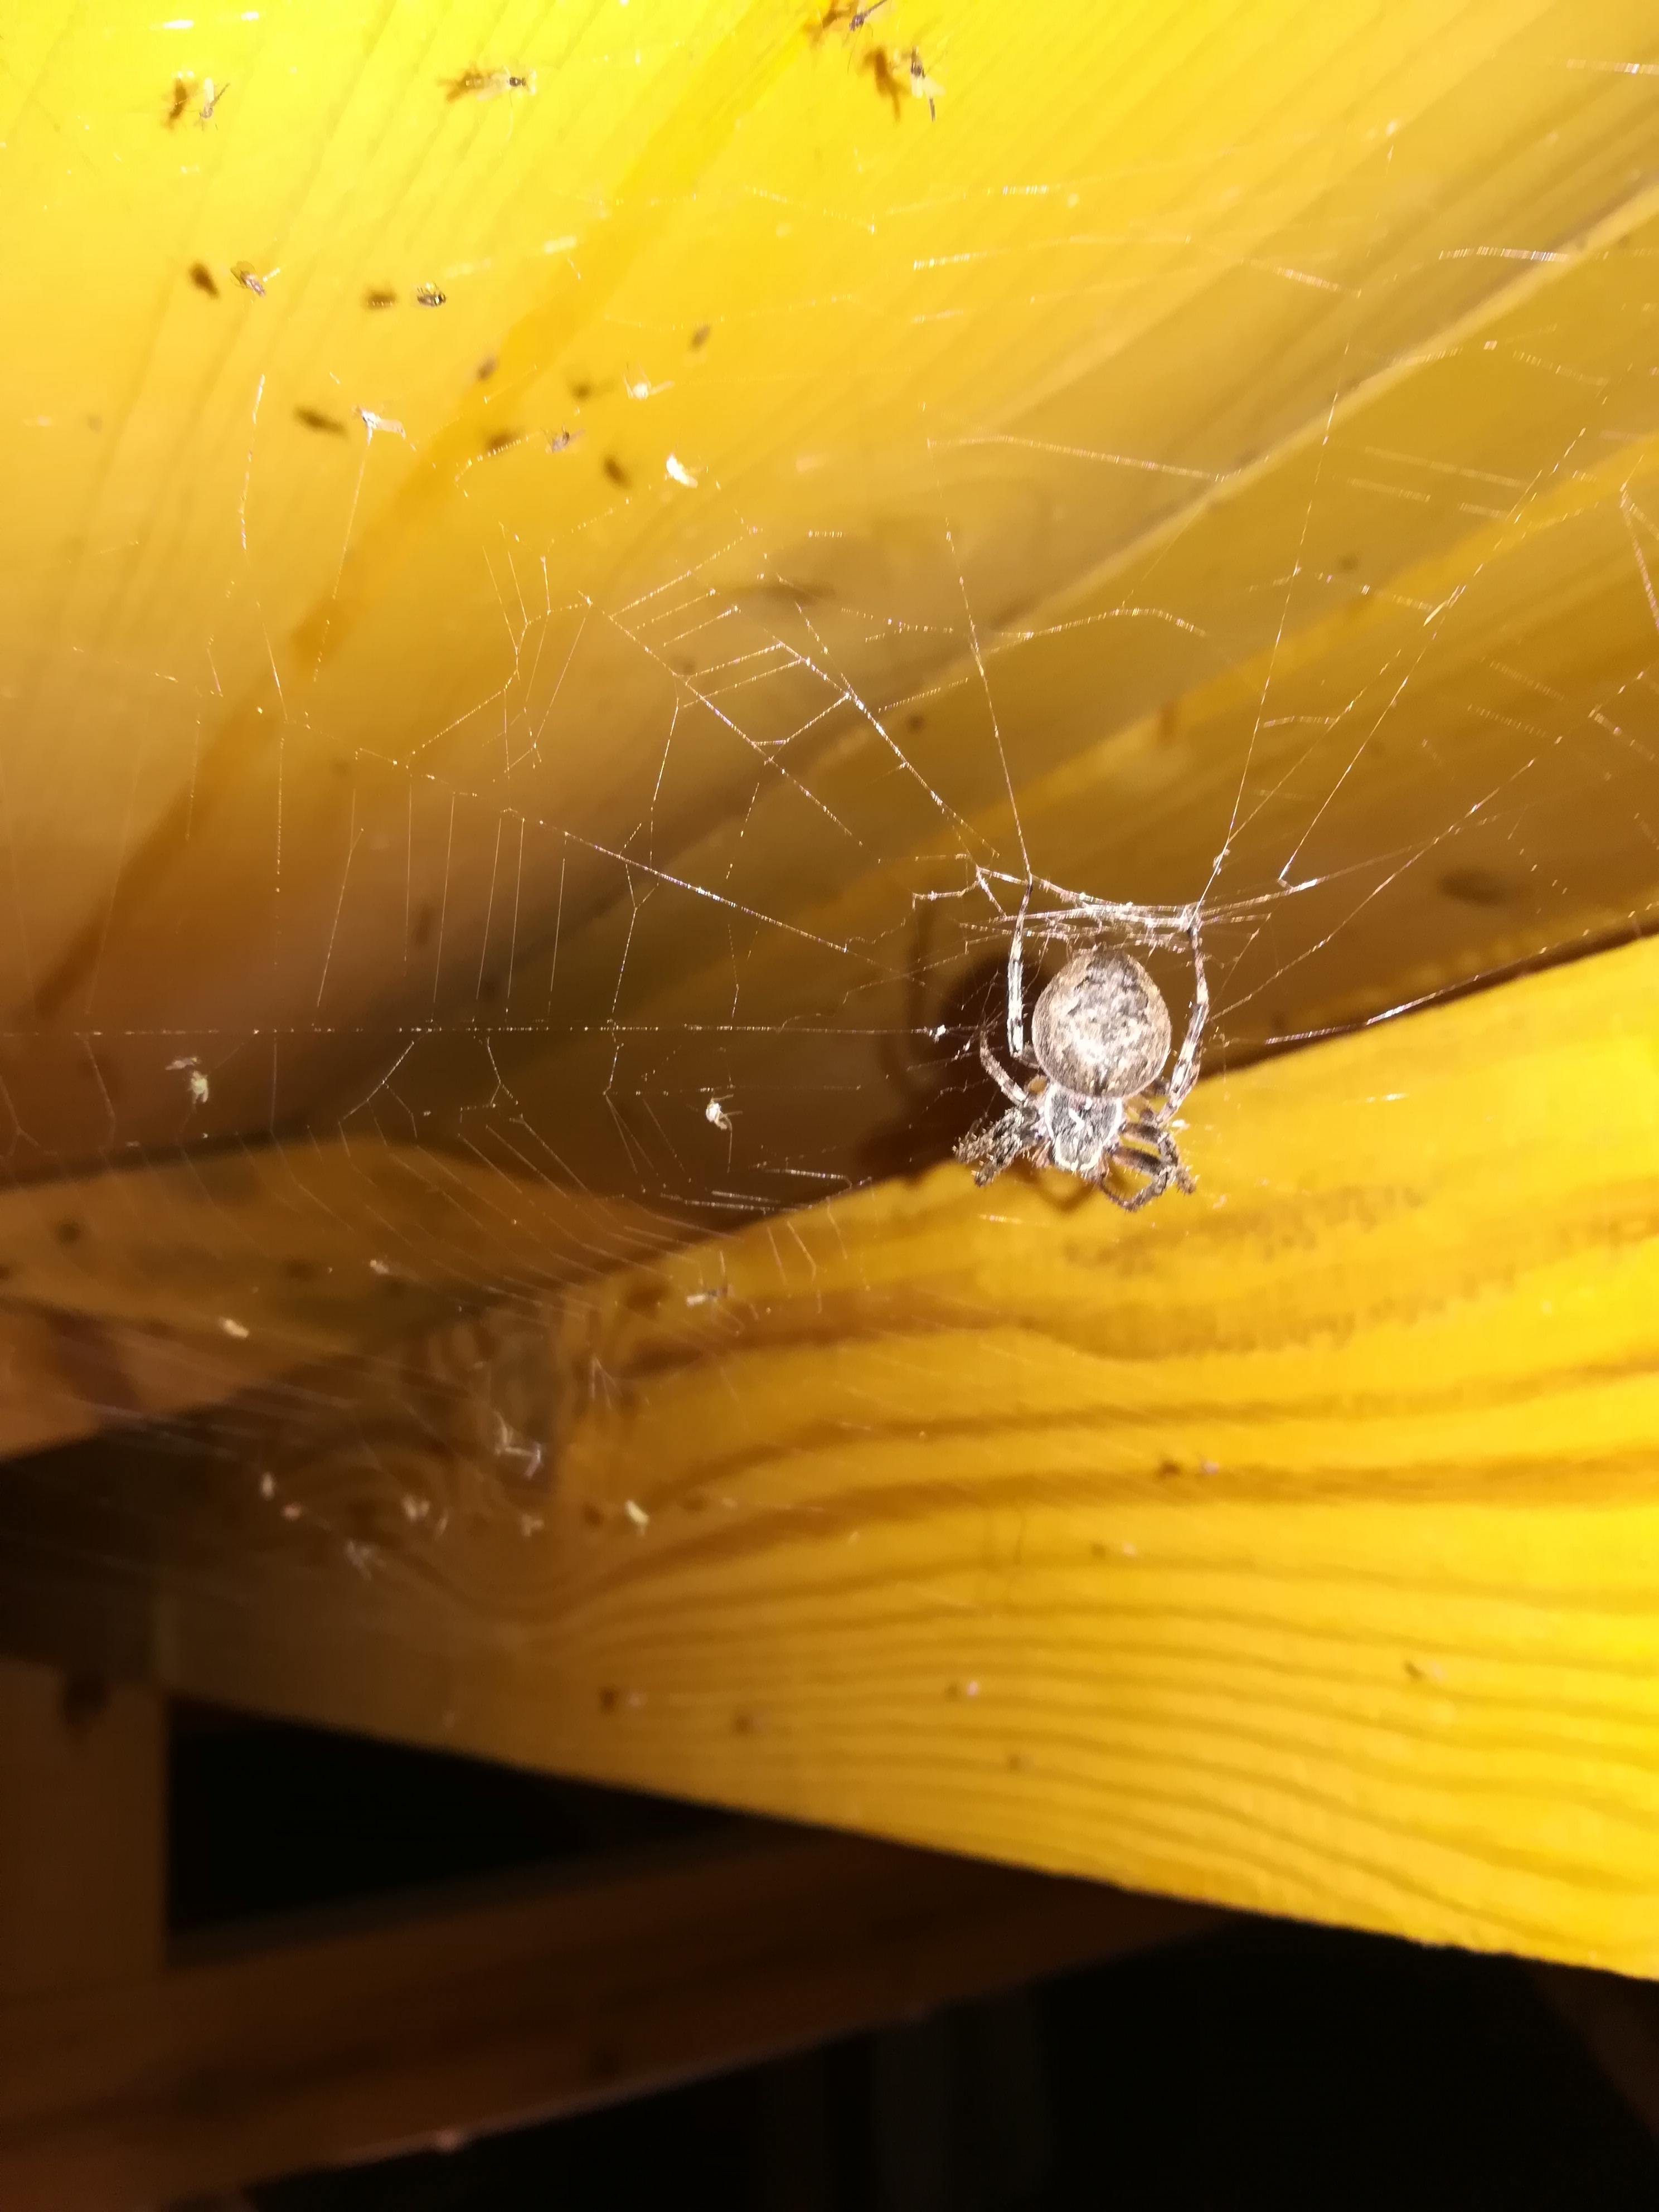spider: (906, 843, 1270, 1273)
